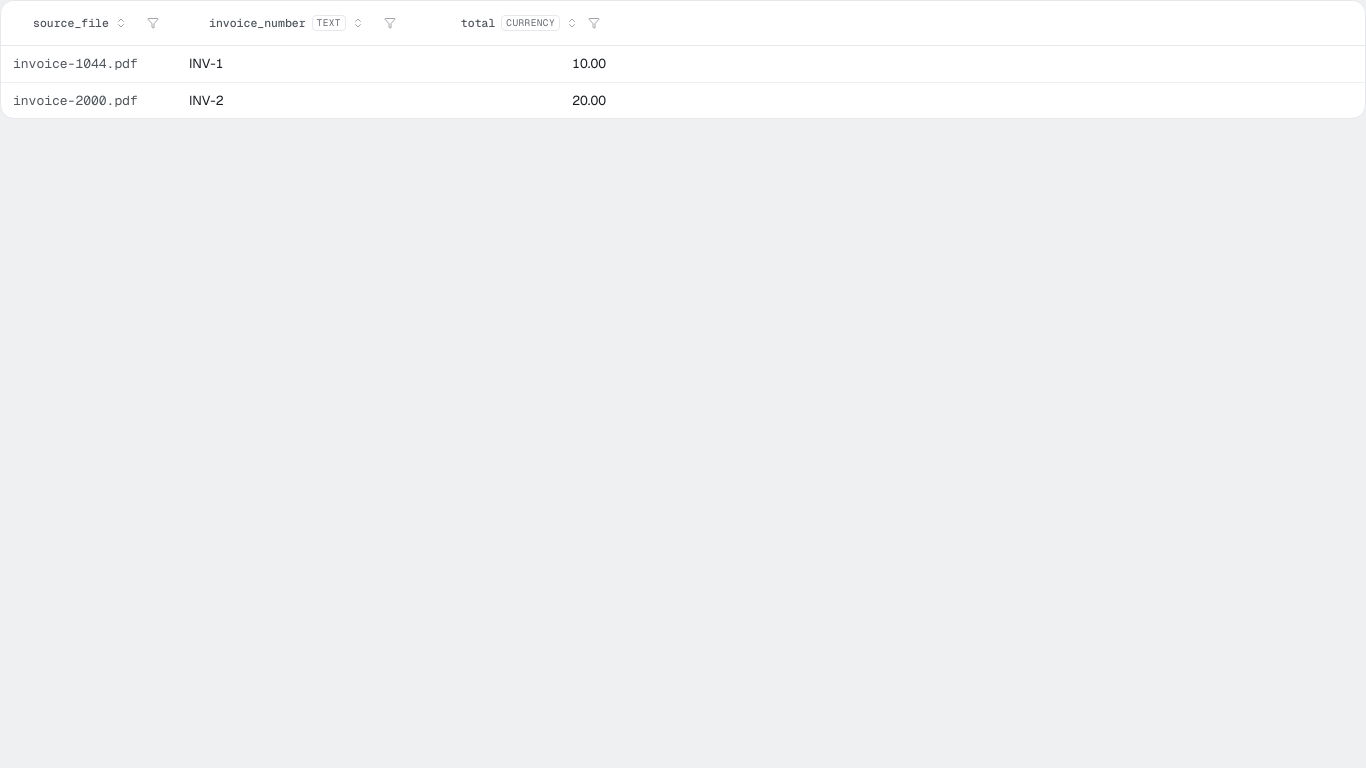
Test case: DataTable › filters the source column as the text it is, with no type to claim
Click the button named "Filter source_file": (153, 23) [141,11,165,35]
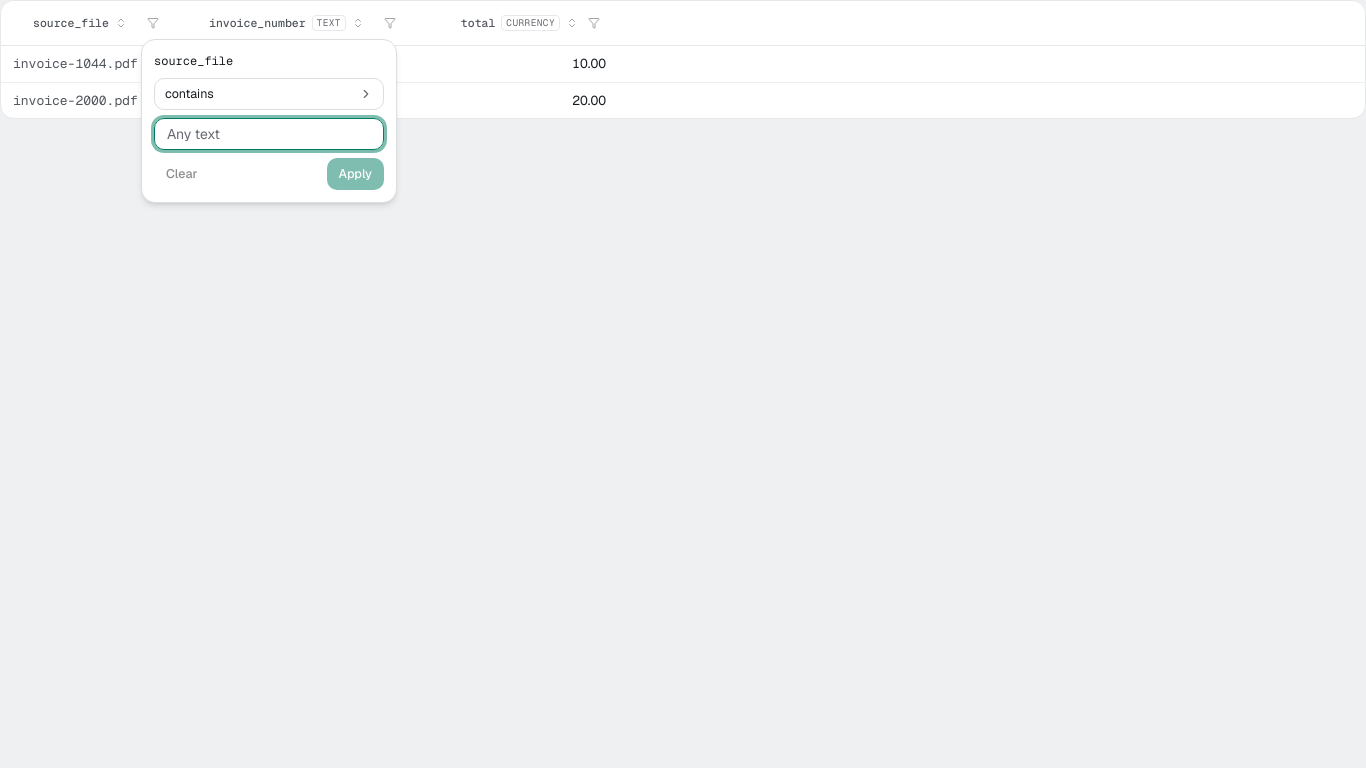
In the field named "Value for source_file": (269, 134) [154,118,384,150], type "1044"
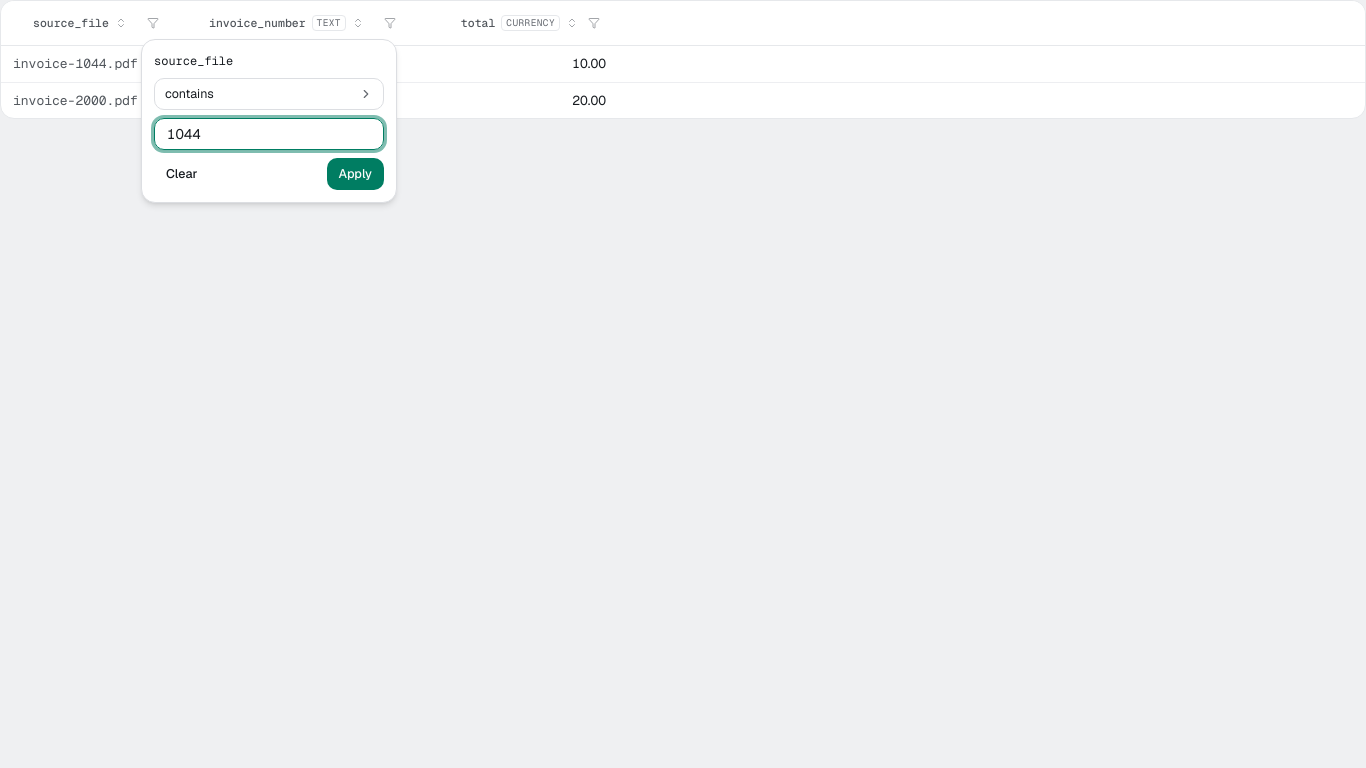
Click the button "Apply": (355, 174) [326,158,384,190]
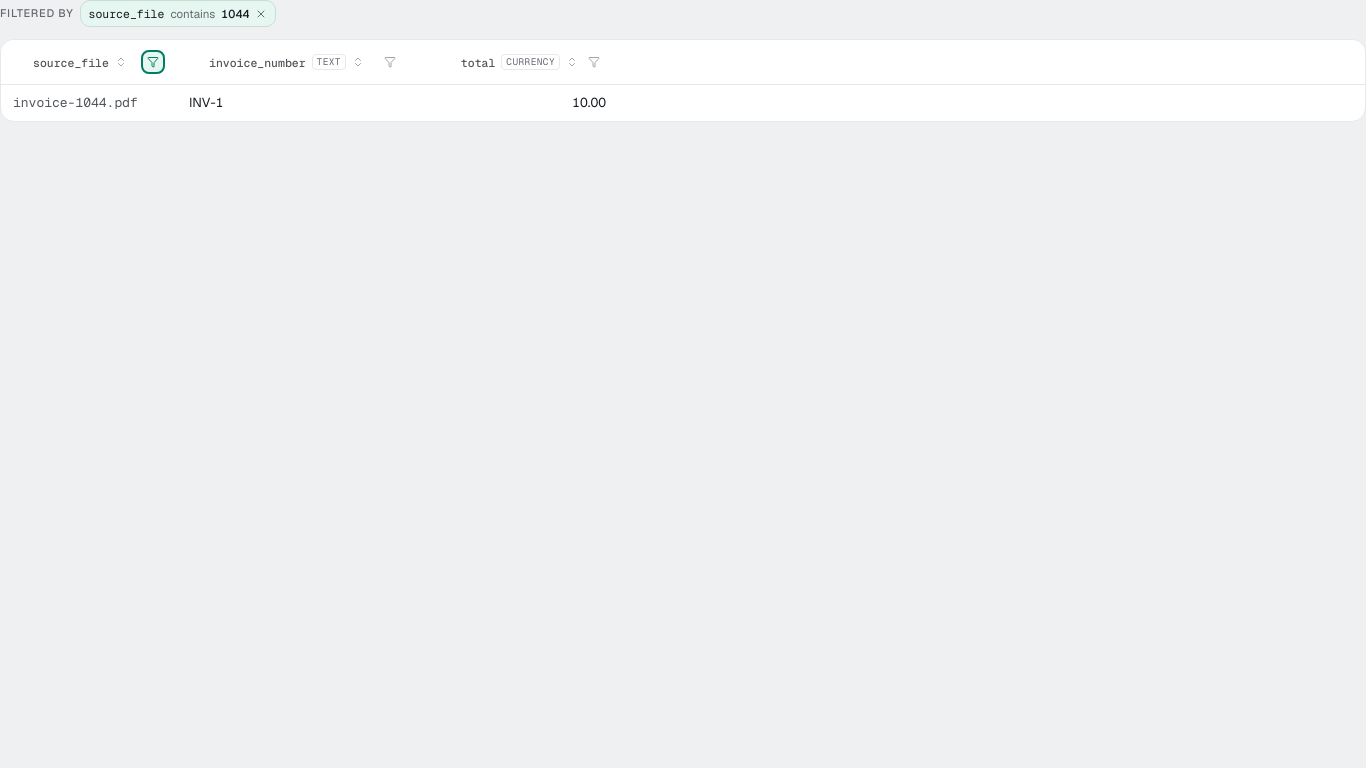
Check: the text "invoice-1044.pdf" is shown, box [13,94,138,111]
Check: the text "invoice-2000.pdf" is gone
